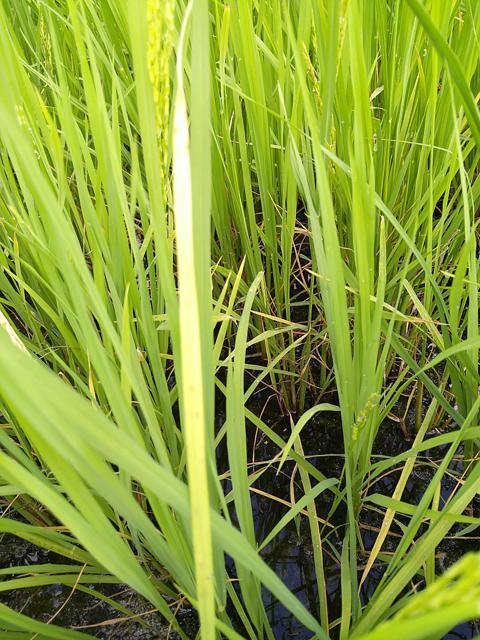Leaf Blight: (174, 0, 201, 392)
